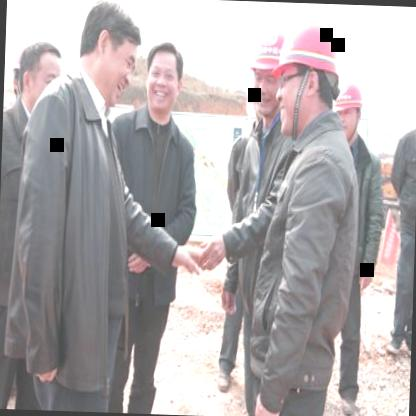head: (73, 0, 142, 106), (140, 36, 188, 121), (17, 36, 66, 107)
helmet: (272, 15, 338, 133), (248, 36, 284, 118), (334, 78, 367, 139)
